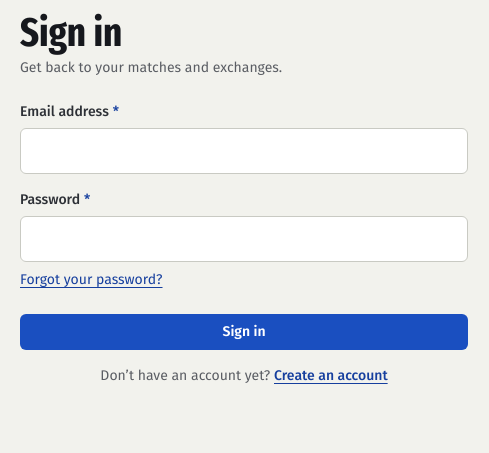
Scenario: page de connexion › s’affiche et valide en anglais
This screenshot has width=489, height=453.
Expected: the field labelled "Email address*" is shown, [20,128,468,174]
Expected: the password field labelled "Password*" is shown, [20,216,468,262]
Click the button "Sign in": (244, 332) [20,314,468,350]
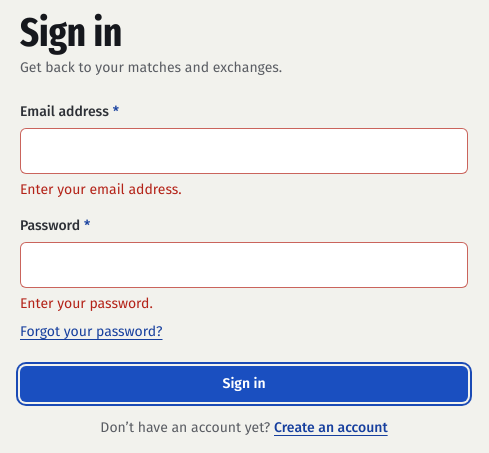
Expected: the text "Enter your email address." is shown, [20,181,182,198]
Expected: the text "Enter your password." is shown, [20,295,153,312]
